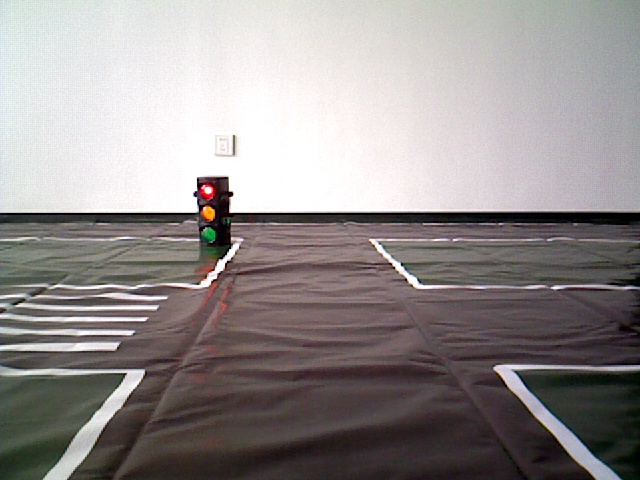red: (198, 179, 227, 247)
